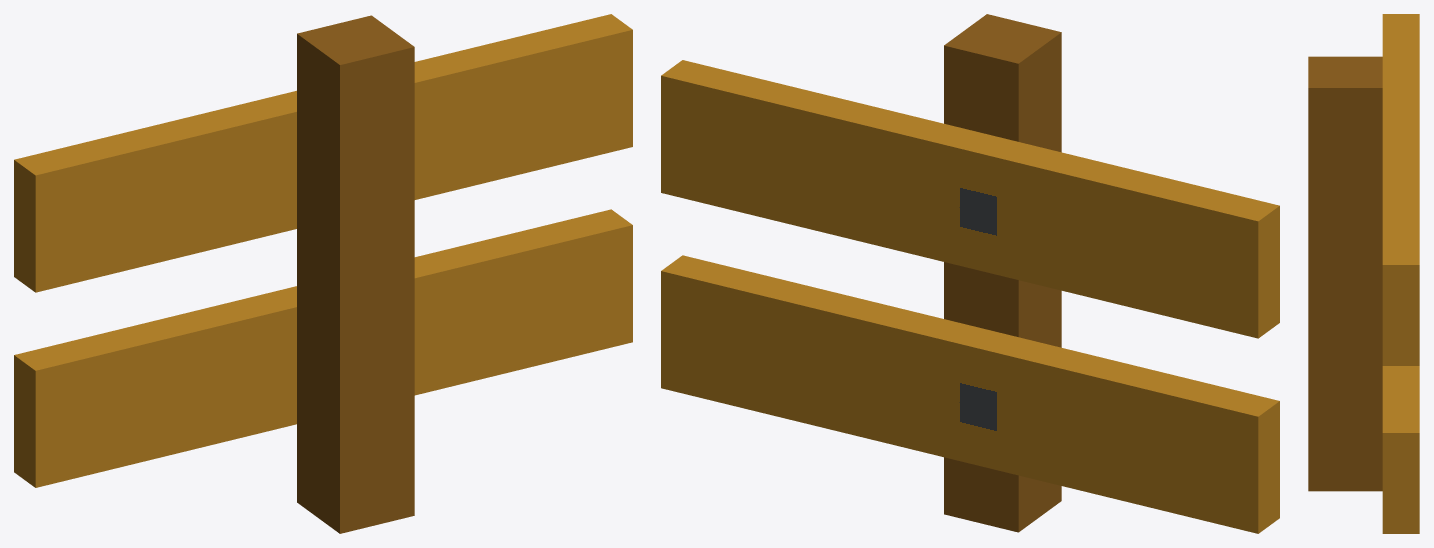
Rendered from StuddedFence_ConnectionRight.fbx.
The picture shows the model from 3 angles, left to right: view 1: azimuth 30°, elevation 25°; view 2: azimuth 150°, elevation 25°; view 3: azimuth 270°, elevation 25°; orthographic projection. The views are drawn at different scales.
Parts seen in each view (by area): view 1: Matrix_1_part_5; view 2: Matrix_1_part_5; view 3: Matrix_1_part_5.
Part boxes in pixels (left/top/right/bottom): Matrix_1_part_5: left=14, top=14, right=632, bottom=533; Matrix_1_part_5: left=661, top=14, right=1279, bottom=533; Matrix_1_part_5: left=1308, top=14, right=1419, bottom=533.
Bounding box in the file's own units: 16 × 12 × 3.
Materials: 1 (1 with a texture image).
